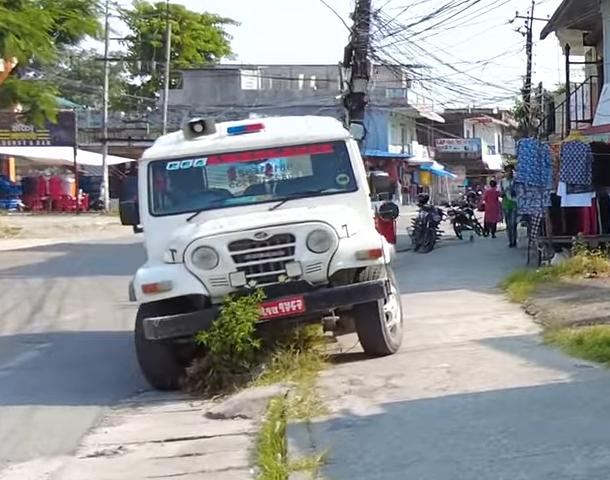ambulance: (111, 99, 422, 395)
